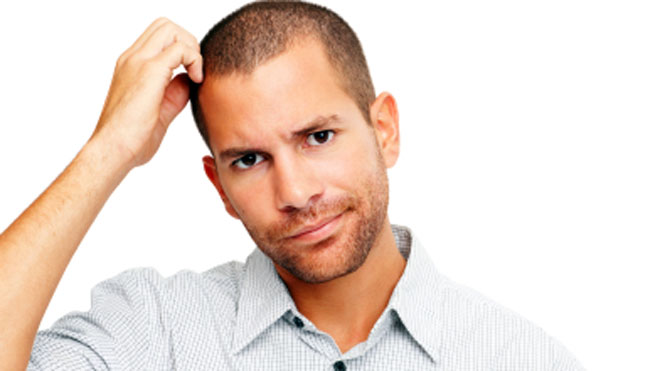confused: (193, 80, 379, 293)
